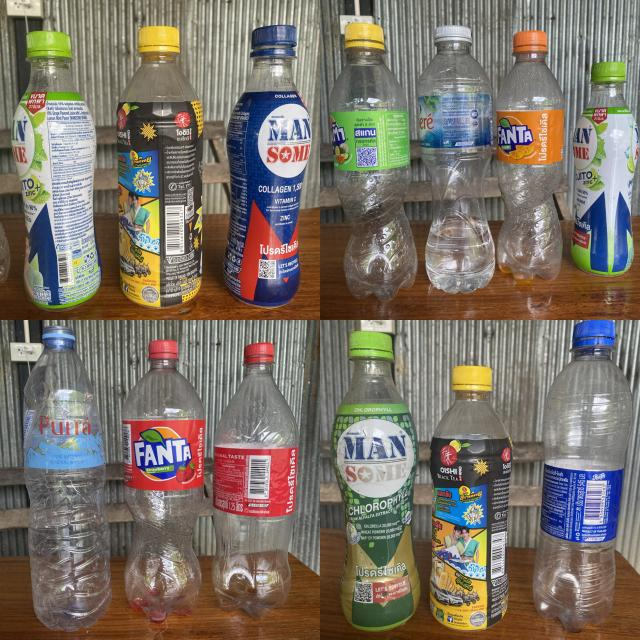plastik: (532, 320, 632, 631), (22, 325, 110, 631), (331, 331, 420, 631), (11, 31, 101, 311), (329, 22, 418, 301), (116, 26, 204, 308), (224, 25, 311, 307), (212, 342, 299, 619), (122, 340, 205, 623), (430, 366, 512, 629), (418, 25, 495, 294), (496, 30, 564, 282), (571, 61, 639, 276)
